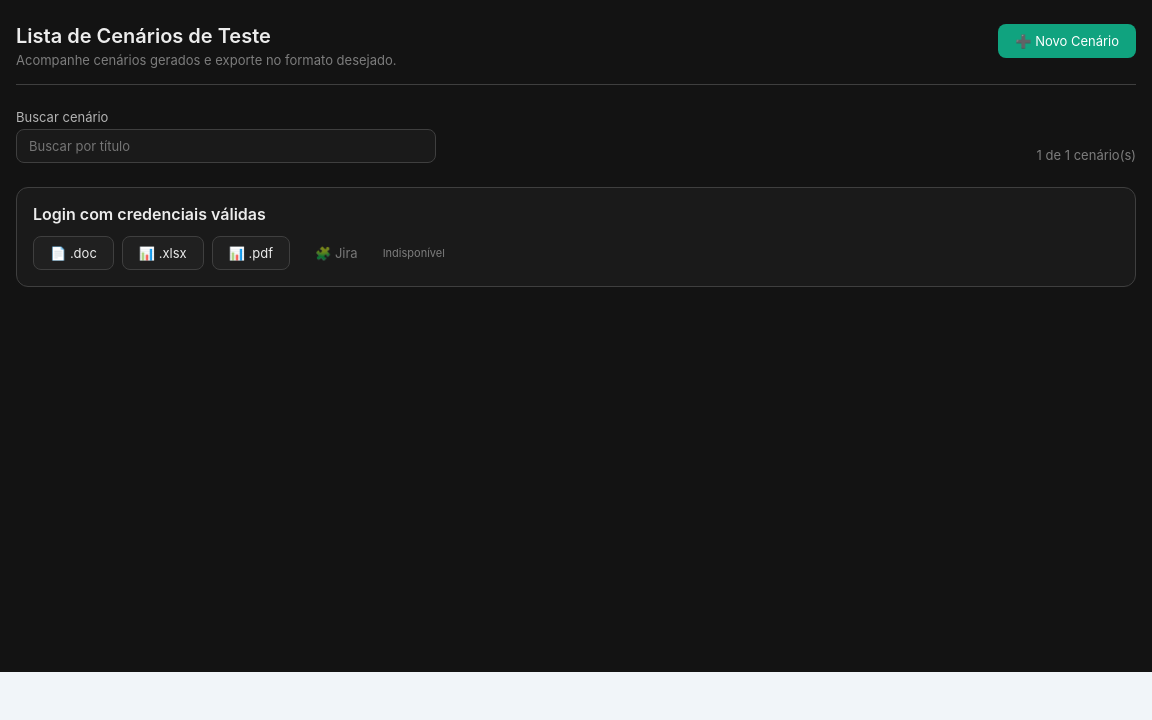
Test case: CenarioListComponent (caracterização — Fase 14.4) › expandir/recolher detalhes — acessibilidade (Fase 14.4/Etapa 2) › FASE15-BUG-005B: exibe Status/Evidência/Fontes de cada cenário ao expandir os detalhes
What coordinates should you click on to do the following:
click the button with class "cenario-card__toggle"
I would click on:
 (149, 214)
Its box is [33,204,1119,224].
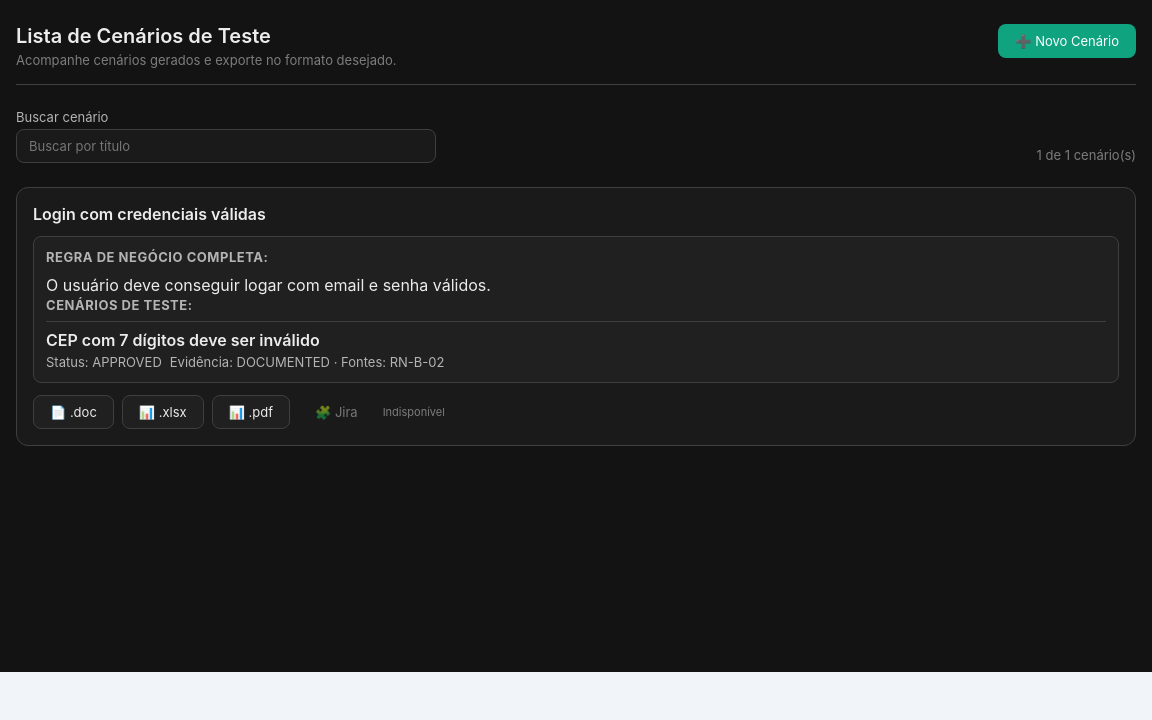
Check: the element with class "cenario-card__details" shows "CEP com 7 dígitos deve ser inválido", box [46,330,320,350]
Check: the element with class "cenario-card__details" shows "Status: APPROVED", box [46,354,162,370]
Check: the element with class "cenario-card__details" shows "Evidência: DOCUMENTED", box [170,354,334,370]
